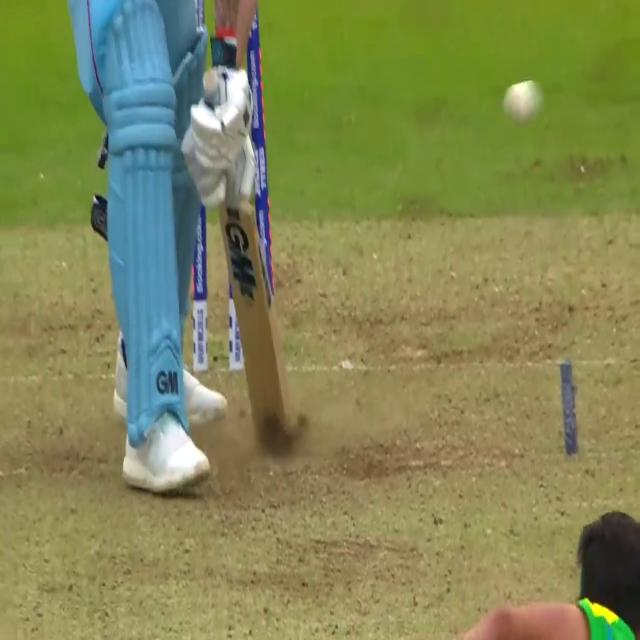ball: (507, 72, 543, 128)
